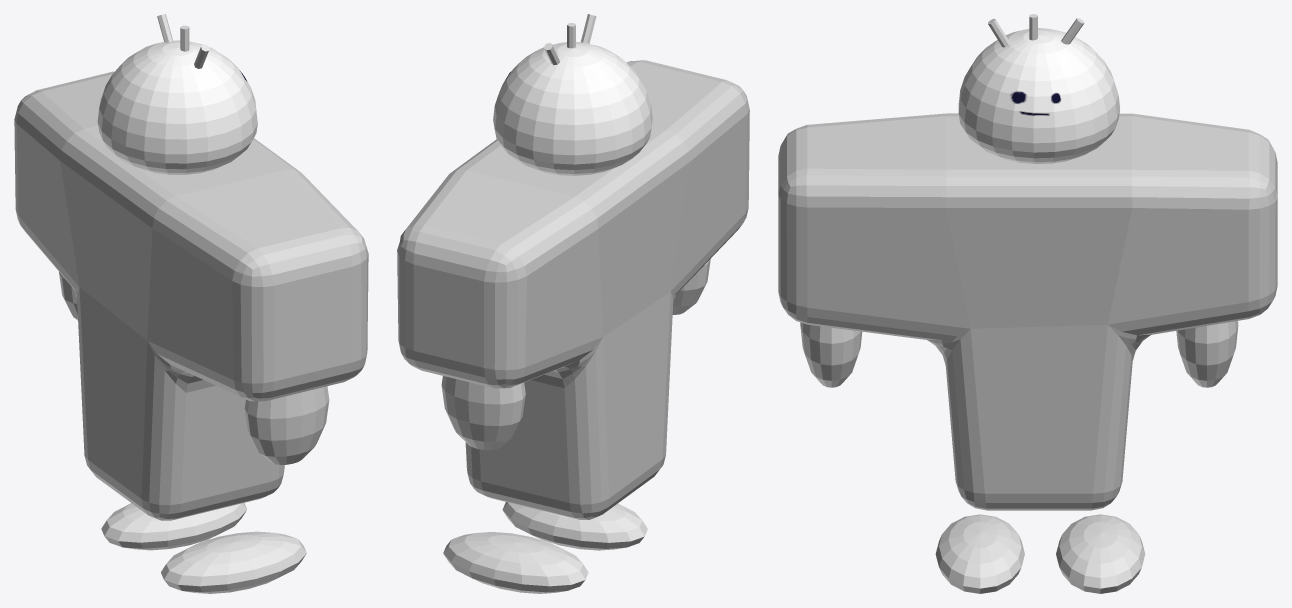
Rendered from bully.fbx.
The picture shows the model from 3 angles, left to right: view 1: azimuth 30°, elevation 25°; view 2: azimuth 150°, elevation 25°; view 3: azimuth 270°, elevation 25°; orthographic projection.
Visible parts, largest first — view 1: Body, Head, RFoot, RArm, LFoot, Hair; view 2: Body, Head, LFoot, LArm, RFoot, RArm, Hair; view 3: Body, Head, RFoot, LFoot, LArm, RArm, Hair.
Boxes of the visible parts, x1,y1,x2,y2 form: Body: (14,71,368,520); Head: (97,40,257,174); RFoot: (161,531,306,593); RArm: (244,386,329,464); LFoot: (101,503,247,550); Hair: (157,14,209,68); Body: (397,60,749,519); Head: (493,41,652,175); LFoot: (443,532,588,593); LArm: (441,376,525,450); RFoot: (502,502,647,550); RArm: (672,259,710,314); Hair: (544,14,596,65); Body: (778,113,1277,510); Head: (958,28,1119,163); RFoot: (935,514,1024,593); LFoot: (1056,514,1145,593); LArm: (1176,321,1238,387); RArm: (800,322,862,387); Hair: (988,14,1084,47).
Size of the model in its own units: 242 by 745 by 615.
